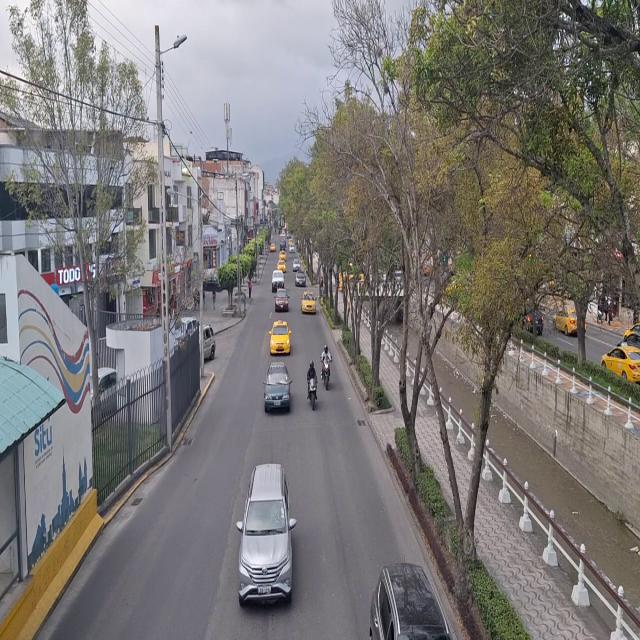MOTORCYCLE: (322, 358, 332, 392), (308, 377, 318, 410)
SED: (265, 362, 291, 410)
SUV: (241, 468, 291, 606), (370, 564, 450, 640)
